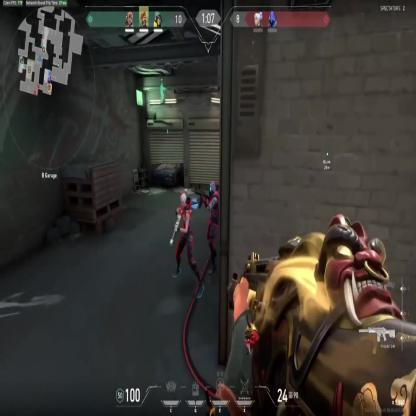enemy: (172, 186, 203, 298), (202, 179, 219, 273)
enemy_head: (209, 180, 216, 199), (179, 192, 186, 209)
